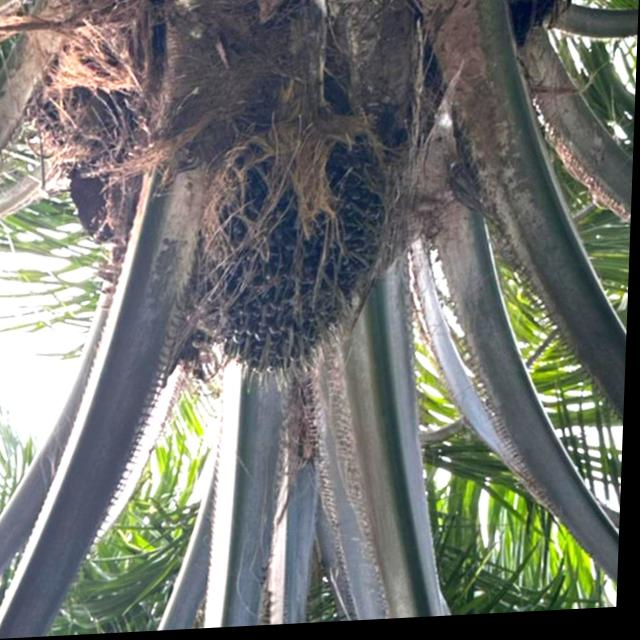almost: (185, 137, 409, 408)
